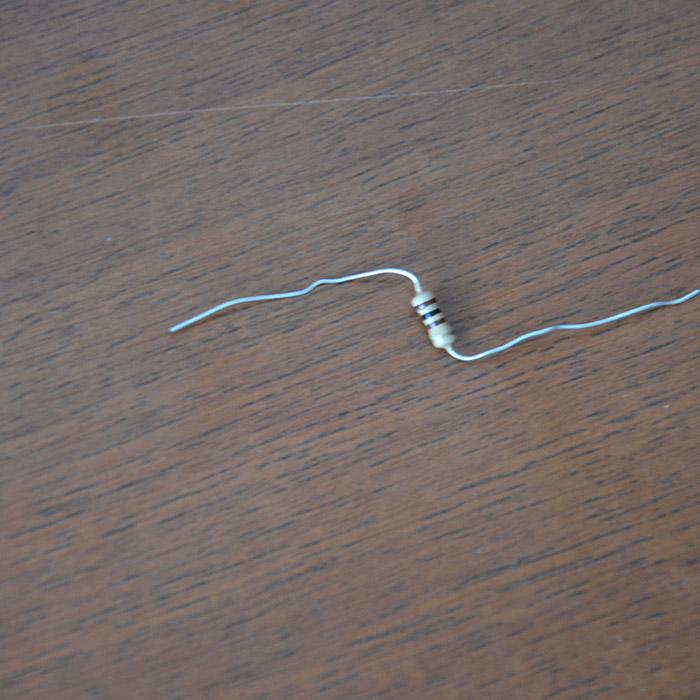resistor: (411, 287, 456, 351)
